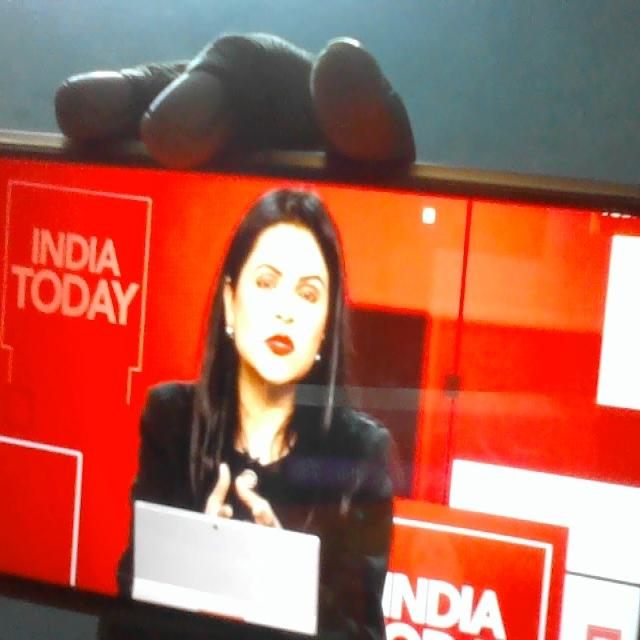fake: (205, 140, 355, 423)
